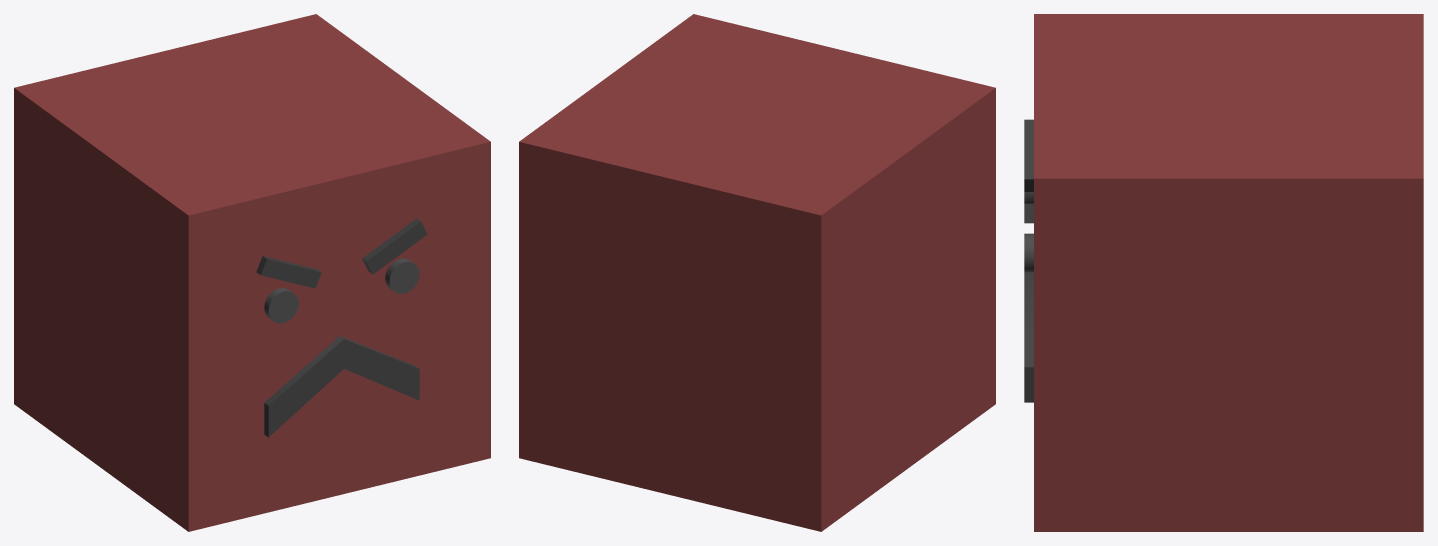
File: Enemy.fbx
3 renders of one model, left to right at view 1: azimuth 30°, elevation 25°; view 2: azimuth 150°, elevation 25°; view 3: azimuth 270°, elevation 25°, orthographic. The views are drawn at different scales.
Visible parts, largest first — view 1: pCube5; view 2: pCube5; view 3: pCube5.
Boxes of the visible parts, x1,y1,x2,y2 form: pCube5: (14, 14, 490, 531); pCube5: (519, 14, 995, 531); pCube5: (1024, 14, 1423, 531).
Size of the model in its own units: 10 by 10 by 10.25.
